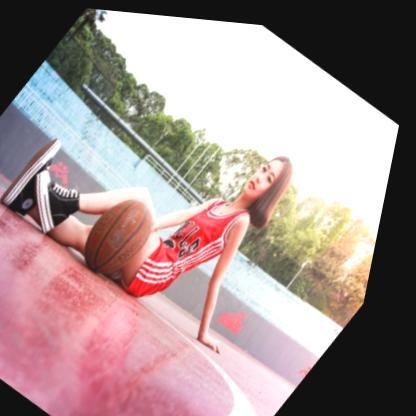basketball: (76, 181, 179, 285)
